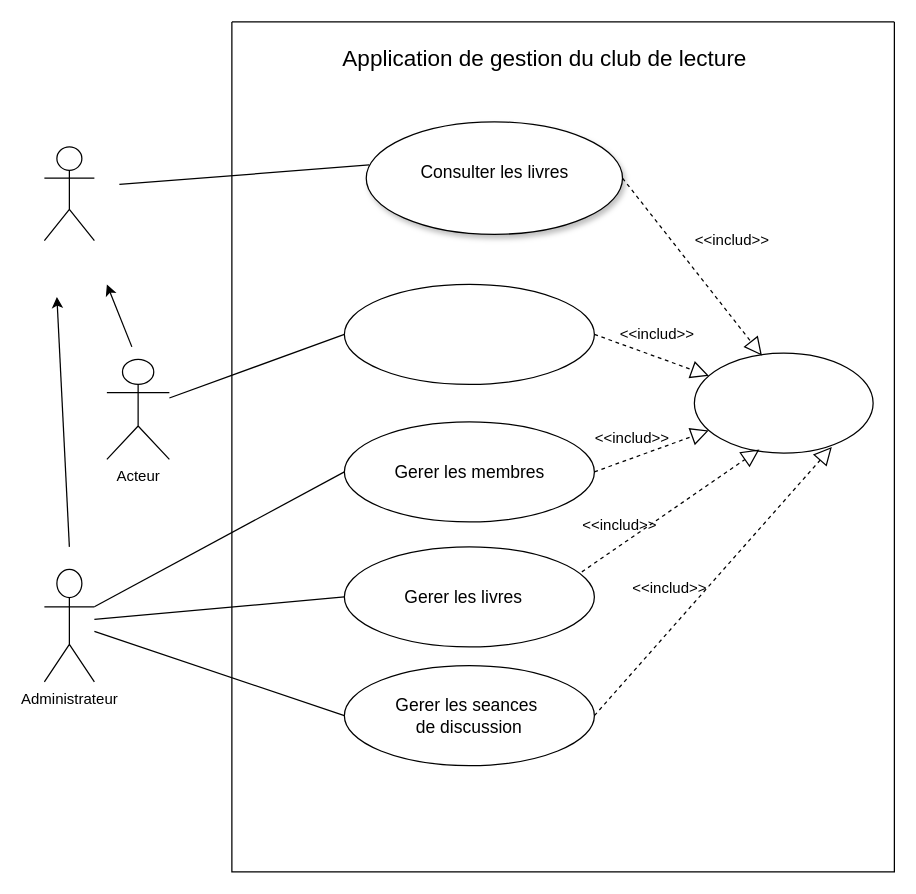
This 916x894 diagram has some shape labels left out. Here are the shapes that lost their labels. From the top down, the centre of each, then its label:
At pixel 68 193: "stagiaire".
At pixel 468 333: "Consulter les seances de discussion".
At pixel 783 402: "Se connecter".
